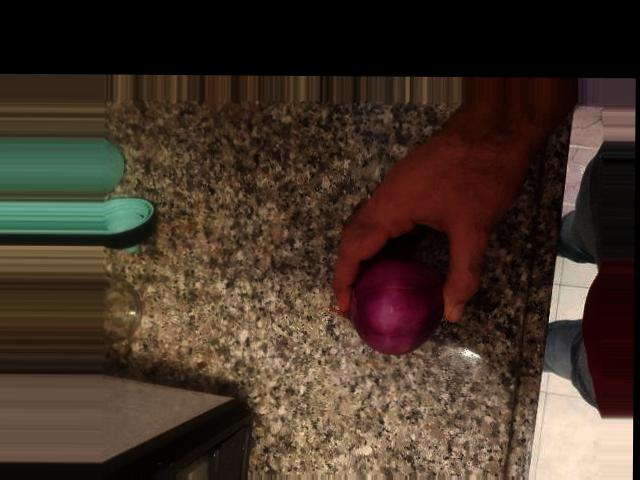onion: (334, 258, 464, 360)
